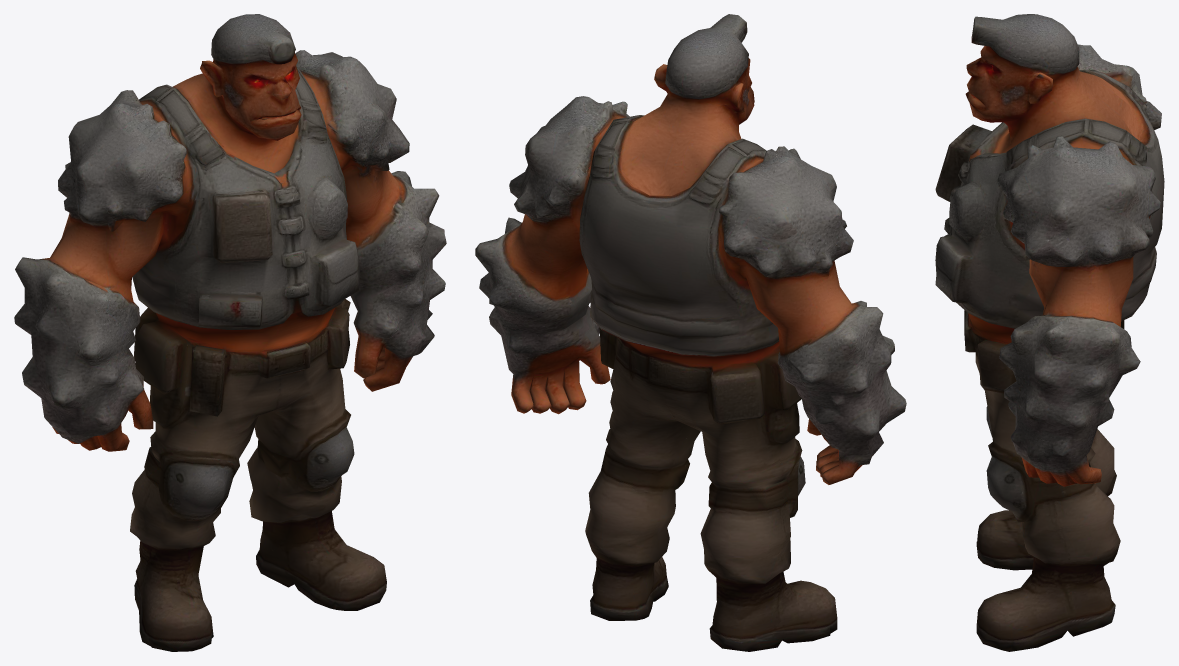
Rendered from selected.glb.
The picture shows the model from 3 angles, left to right: view 1: azimuth 30°, elevation 25°; view 2: azimuth 150°, elevation 25°; view 3: azimuth 270°, elevation 25°; orthographic projection. The views are drawn at different scales.
Parts seen in each view (by area): view 1: tripo_node_ddee26fe-46bb-4a81-9264-b0046bf9707b; view 2: tripo_node_ddee26fe-46bb-4a81-9264-b0046bf9707b; view 3: tripo_node_ddee26fe-46bb-4a81-9264-b0046bf9707b.
Boxes of the visible parts, left/top/right/bottom form: tripo_node_ddee26fe-46bb-4a81-9264-b0046bf9707b: left=14, top=14, right=446, bottom=651; tripo_node_ddee26fe-46bb-4a81-9264-b0046bf9707b: left=475, top=14, right=906, bottom=651; tripo_node_ddee26fe-46bb-4a81-9264-b0046bf9707b: left=935, top=14, right=1164, bottom=651.
Size of the model in its own units: 0.709 by 0.998 by 0.3574.
Materials: 1 (1 with a texture image).
